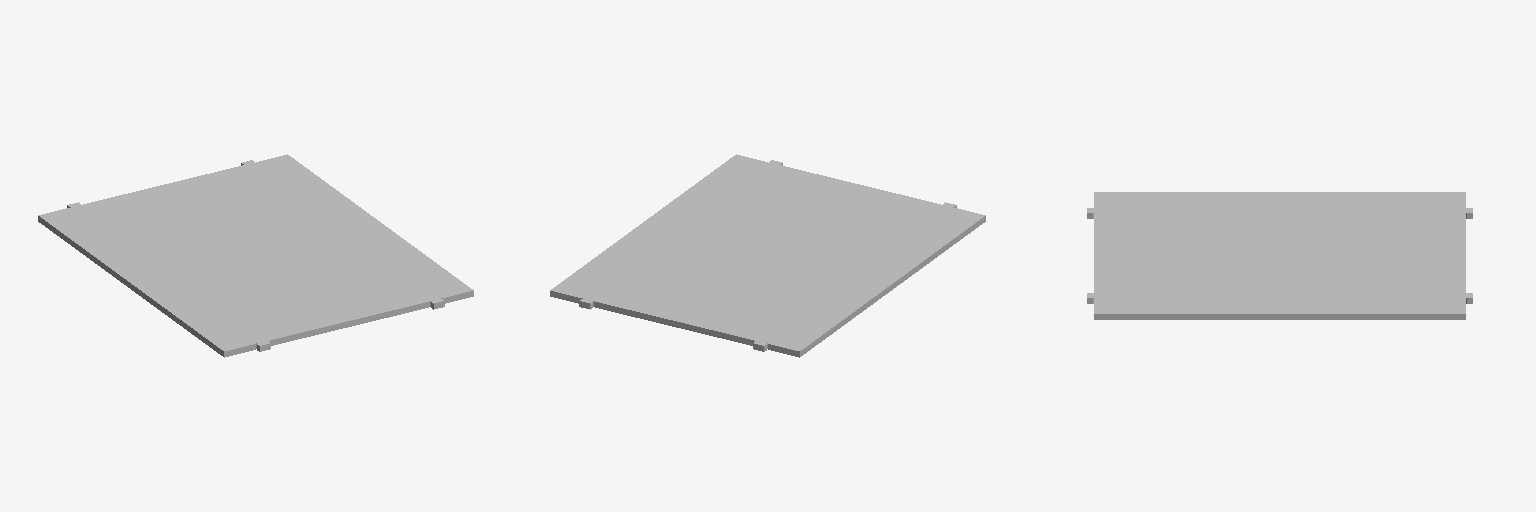
File: GfinalS6.obj
3 views of the same model, side by side, from view 1: azimuth 30°, elevation 25°; view 2: azimuth 150°, elevation 25°; view 3: azimuth 270°, elevation 25° (orthographic).
Parts seen in each view (by area): view 1: Curve_Mesh.002; view 2: Curve_Mesh.002; view 3: Curve_Mesh.002.
Part boxes in pixels (left/top/right/bottom): Curve_Mesh.002: left=38, top=154, right=473, bottom=357; Curve_Mesh.002: left=550, top=154, right=985, bottom=357; Curve_Mesh.002: left=1087, top=192, right=1472, bottom=319.
Size of the model in its own units: 8.67 by 0.2 by 11.57.